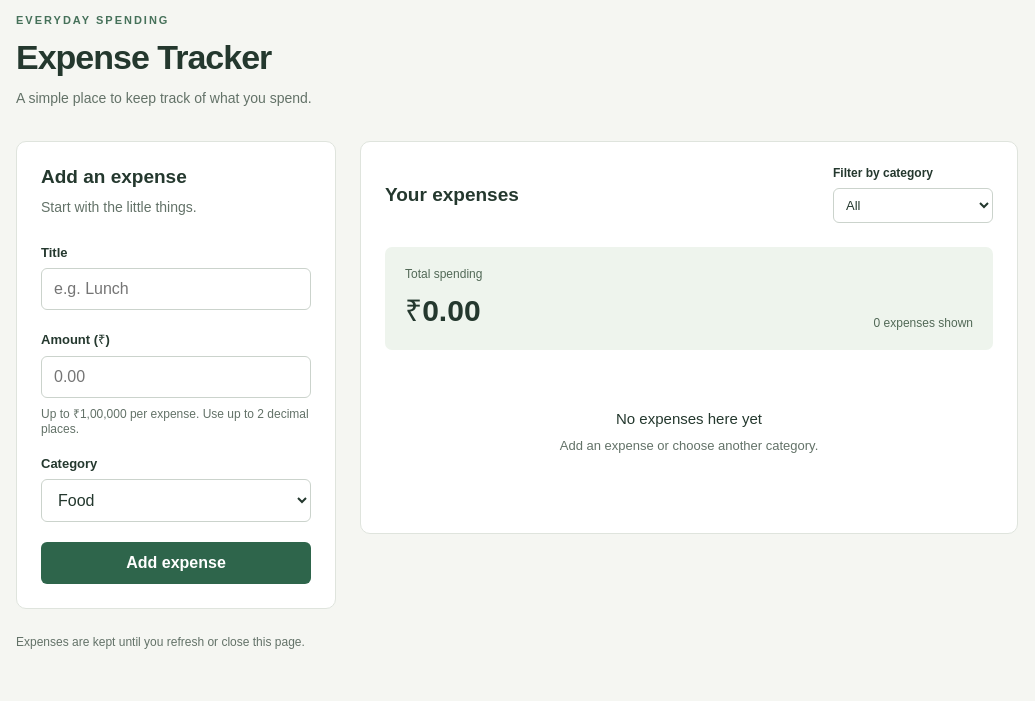
Test: Invalid input › rejects a negative amount
Type "Lunch" into the field with test id "title". click: (176, 289)
box: [41,268,311,310]
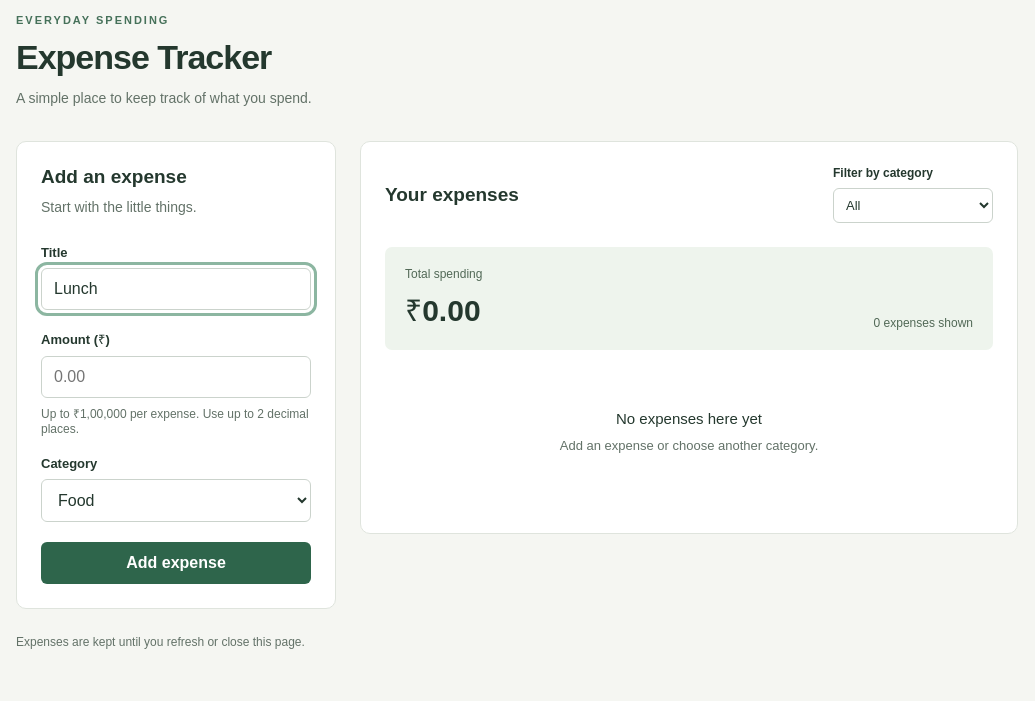
Type "-50" into the field with test id "amount". click: (176, 377)
box: [41,356,311,398]
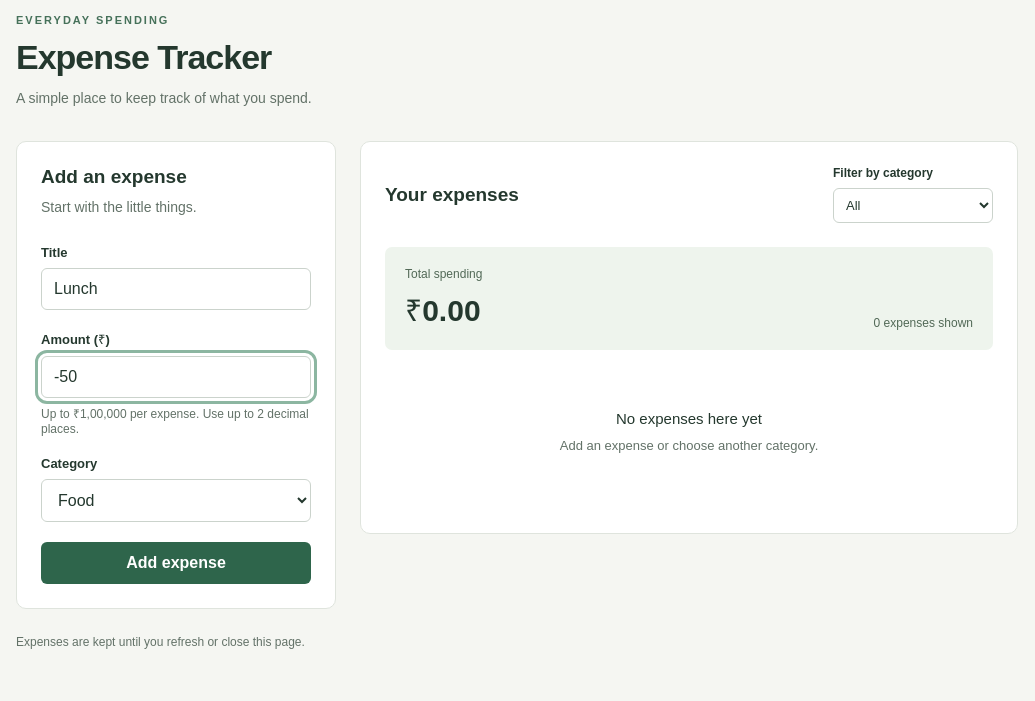
Click the button with test id "add-expense". click: (176, 563)
box: [41,542,311,584]
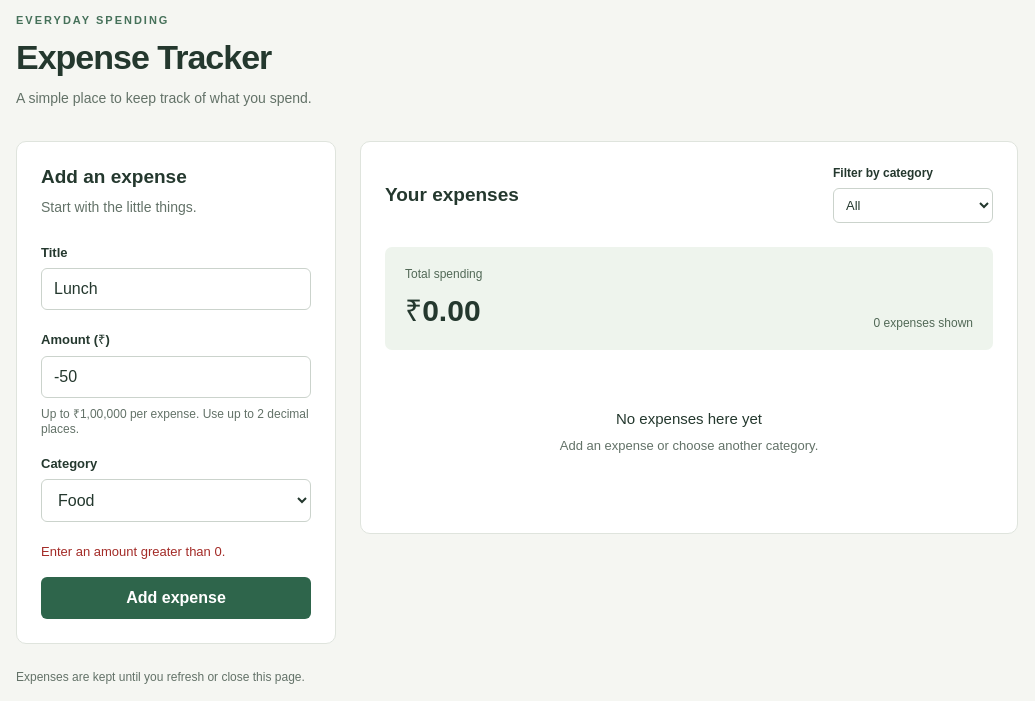
Expected: the text with test id "total" shows "0.00", [422,294,480,327]
Result: the message with test id "error" reads "Enter an amount greater than 0." at [41,544,225,559]
